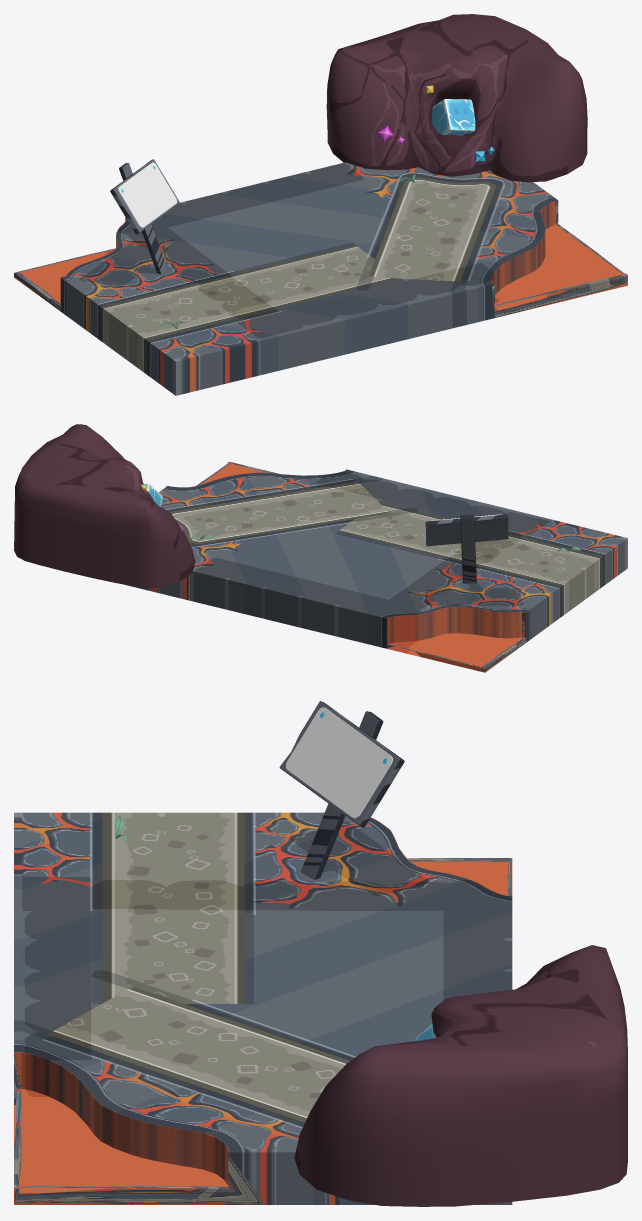
The model's file is S5_OutF_Field_001.fbx.
3 views of the same model, one above another, from view 1: azimuth 30°, elevation 25°; view 2: azimuth 150°, elevation 25°; view 3: azimuth 270°, elevation 25° (orthographic). The views are drawn at different scales.
Visible parts, largest first — view 1: polySurface4, pCube361, S3_OutF_Signboard1_pCube213, pCube368; view 2: polySurface4, pCube361, S3_OutF_Signboard1_pCube213; view 3: polySurface4, pCube361, S3_OutF_Signboard1_pCube213.
Part boxes in pixels (x1,y1,x2,y2): polySurface4: [14, 162, 627, 395]; pCube361: [326, 14, 587, 182]; S3_OutF_Signboard1_pCube213: [110, 159, 179, 274]; pCube368: [432, 99, 475, 135]; polySurface4: [125, 461, 627, 672]; pCube361: [14, 424, 195, 588]; S3_OutF_Signboard1_pCube213: [425, 514, 508, 583]; polySurface4: [14, 812, 512, 1204]; pCube361: [294, 945, 627, 1206]; S3_OutF_Signboard1_pCube213: [279, 701, 404, 879].
Size of the model in its own units: 16.11 by 3.78 by 10.51.
